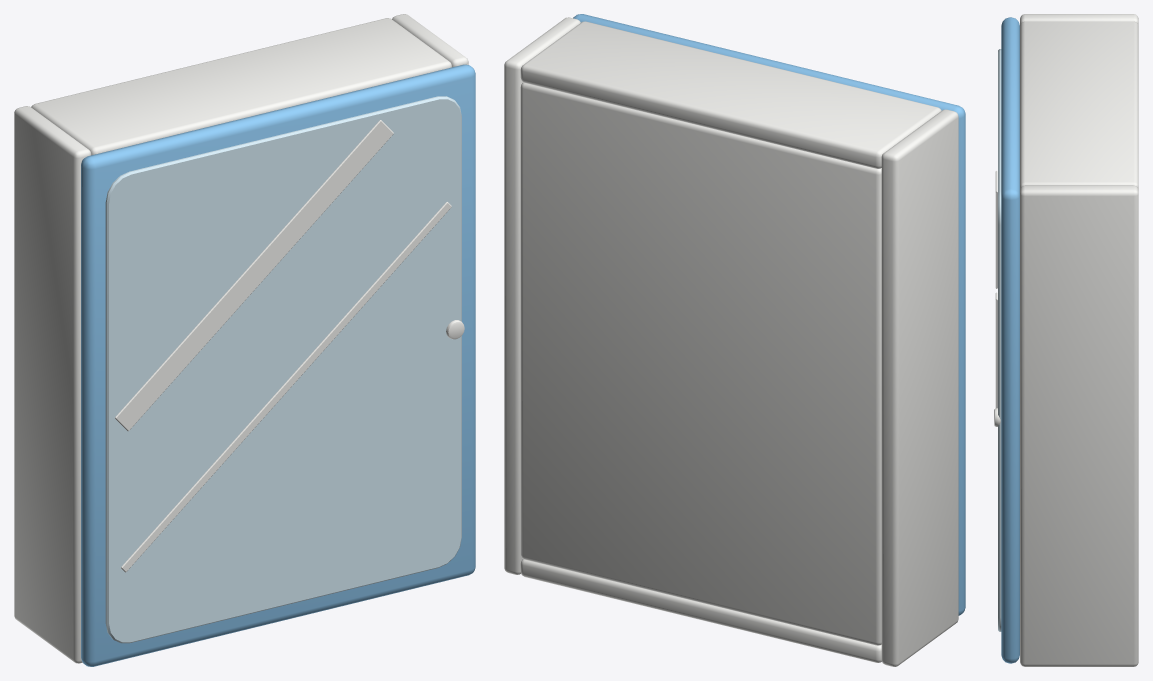
The model's file is espelheira_azul.glb.
3 views of the same model, side by side, from view 1: azimuth 30°, elevation 25°; view 2: azimuth 150°, elevation 25°; view 3: azimuth 270°, elevation 25° (orthographic). The views are drawn at different scales.
Visible parts, largest first — view 1: porta_espelho, espelheira_azul; view 2: espelheira_azul, porta_espelho; view 3: espelheira_azul, porta_espelho.
Boxes of the visible parts, x1,y1,x2,y2 form: porta_espelho: [81, 64, 475, 666]; espelheira_azul: [14, 14, 468, 663]; espelheira_azul: [504, 17, 958, 666]; porta_espelho: [573, 14, 965, 615]; espelheira_azul: [1020, 14, 1138, 666]; porta_espelho: [994, 17, 1019, 663].
Size of the model in its own units: 0.5 by 0.62 by 0.1704.
2 materials, 1 textured.
